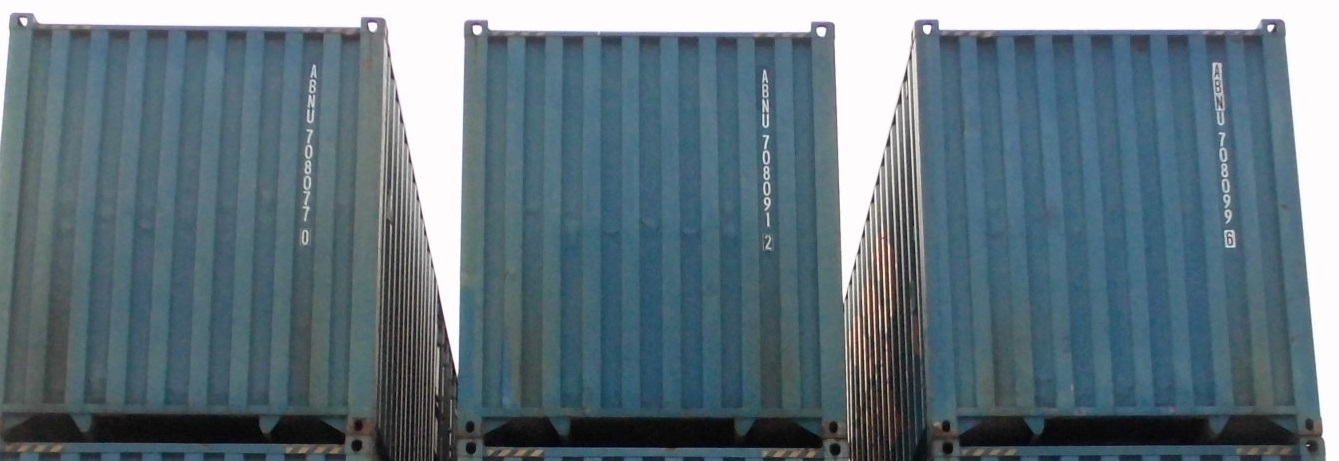container_no_door: (912, 16, 1320, 440), (457, 20, 840, 440), (6, 18, 385, 422)
